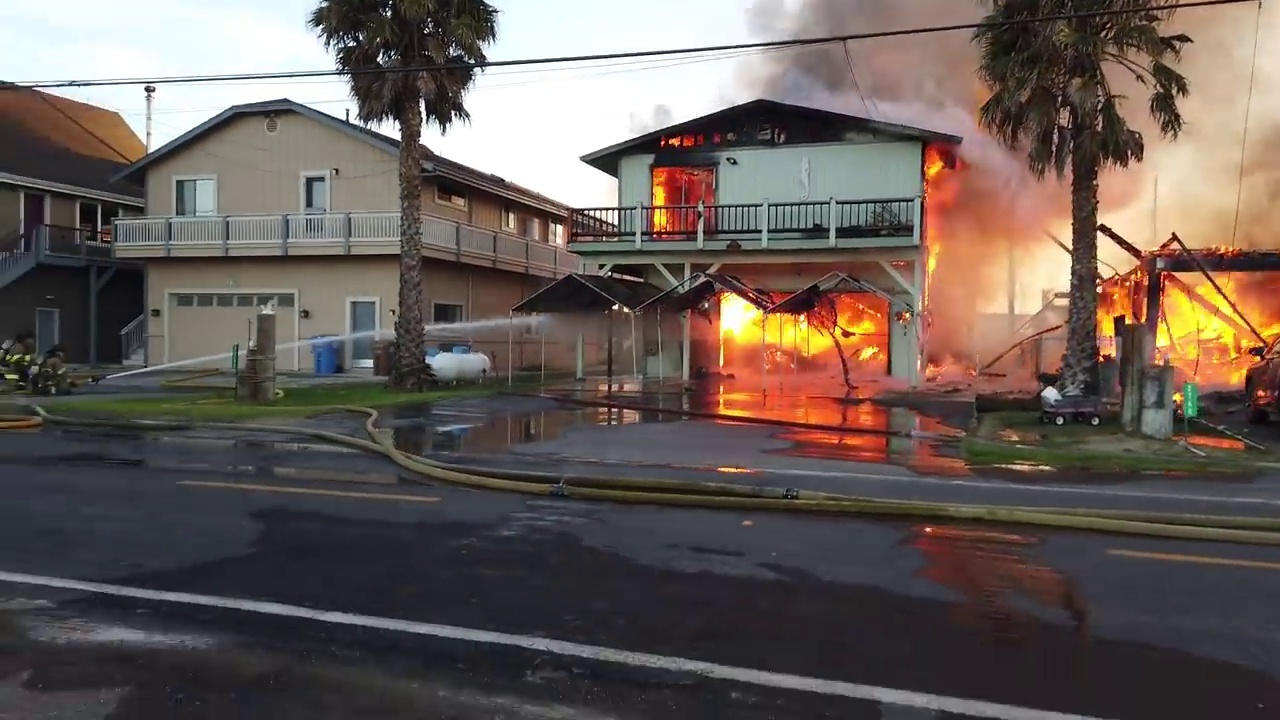fire: (1159, 211, 1280, 403), (922, 139, 952, 335), (718, 296, 810, 355), (646, 163, 715, 228), (1094, 283, 1146, 345), (821, 295, 889, 332), (811, 330, 883, 358), (658, 124, 702, 149), (895, 306, 914, 331)
smoke: (722, 1, 978, 126), (1171, 8, 1280, 210), (957, 142, 1070, 291), (959, 297, 1042, 381), (720, 362, 909, 397)
